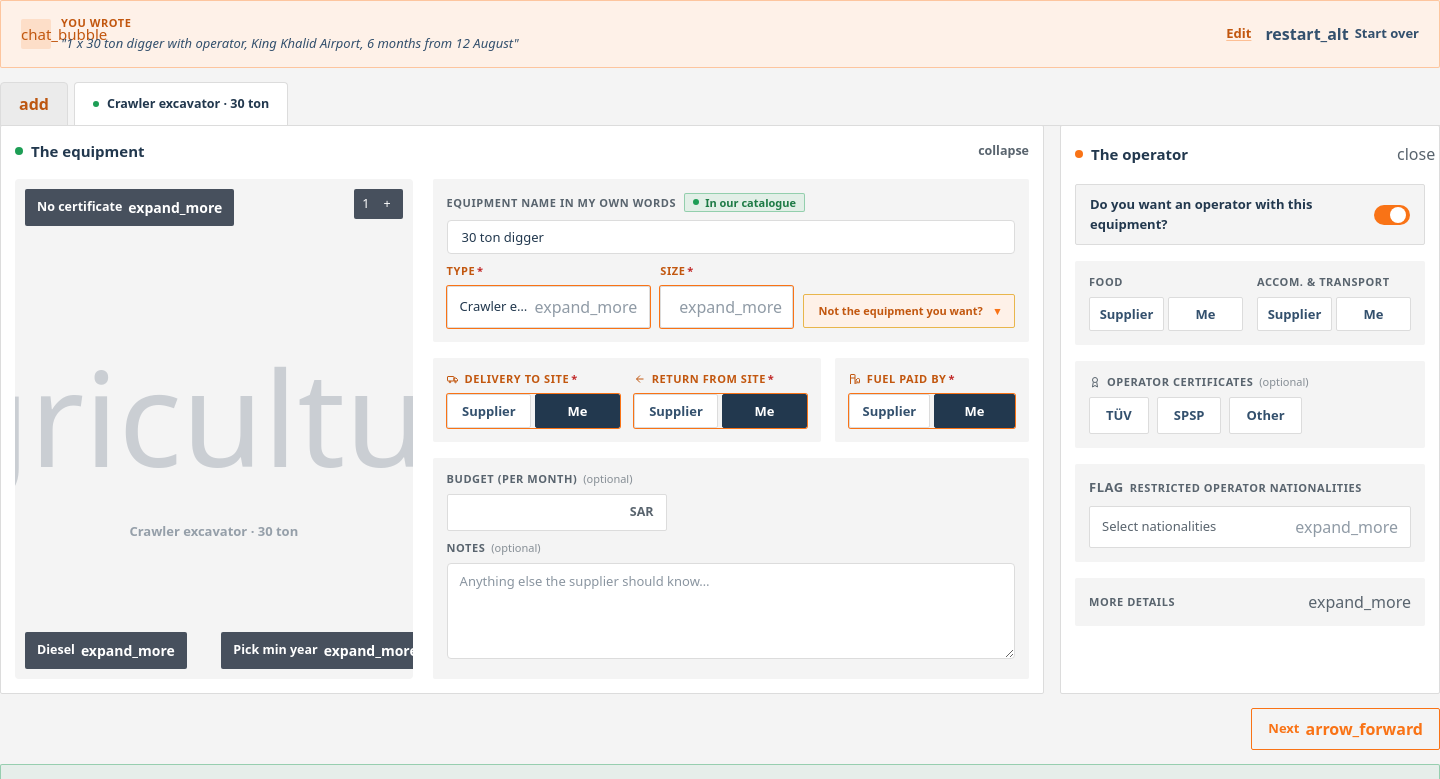
Scenario: adding equipment by hand › adds from the tab strip's + as well, which is the same act
Click the button "add".
click(34, 104)  # box [0,82,68,126]
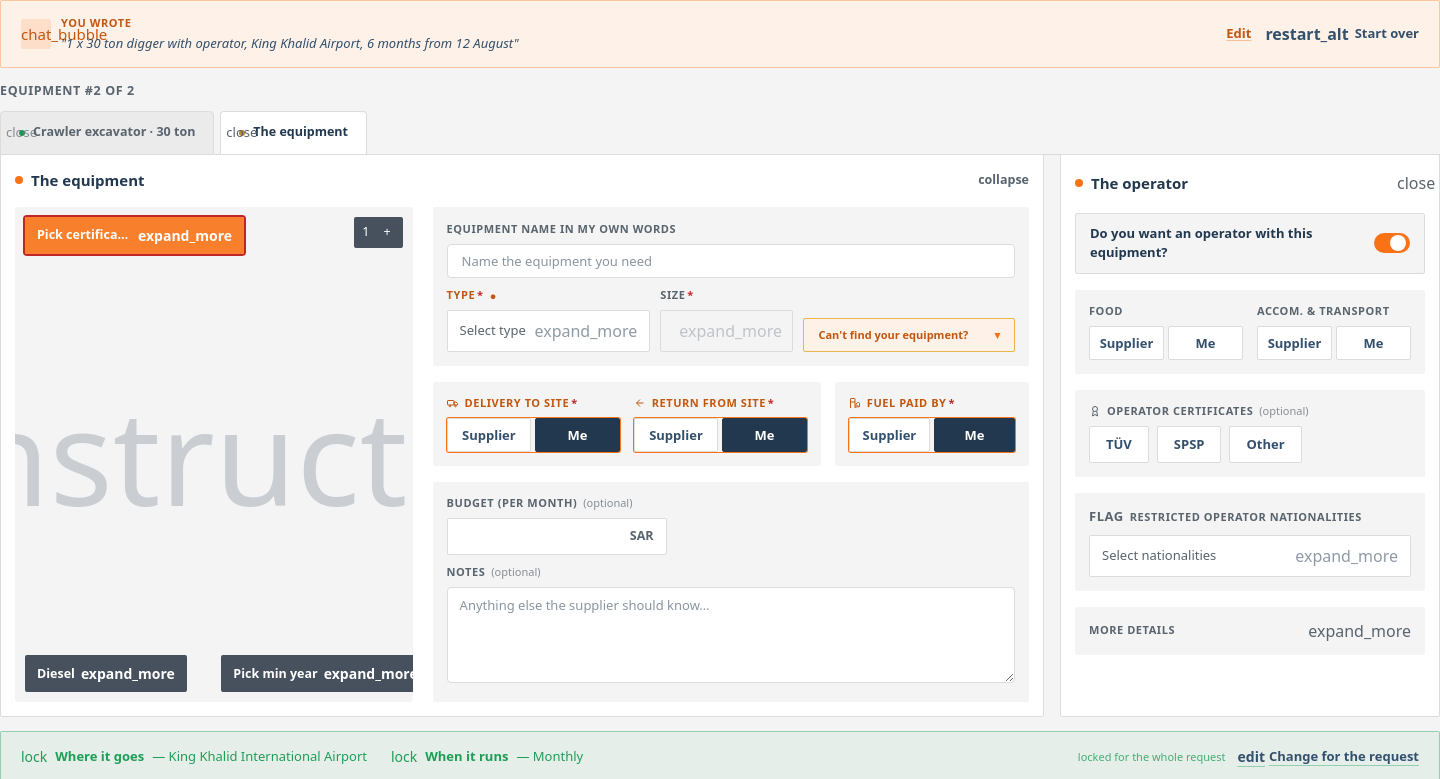
expect the number of tabs is 2: met, box [0,111,214,155]; [220,111,367,155]
